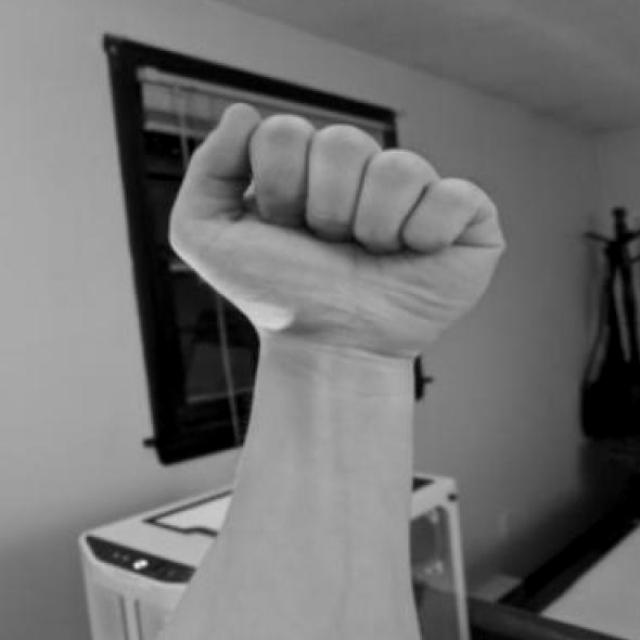A: (159, 91, 517, 405)
